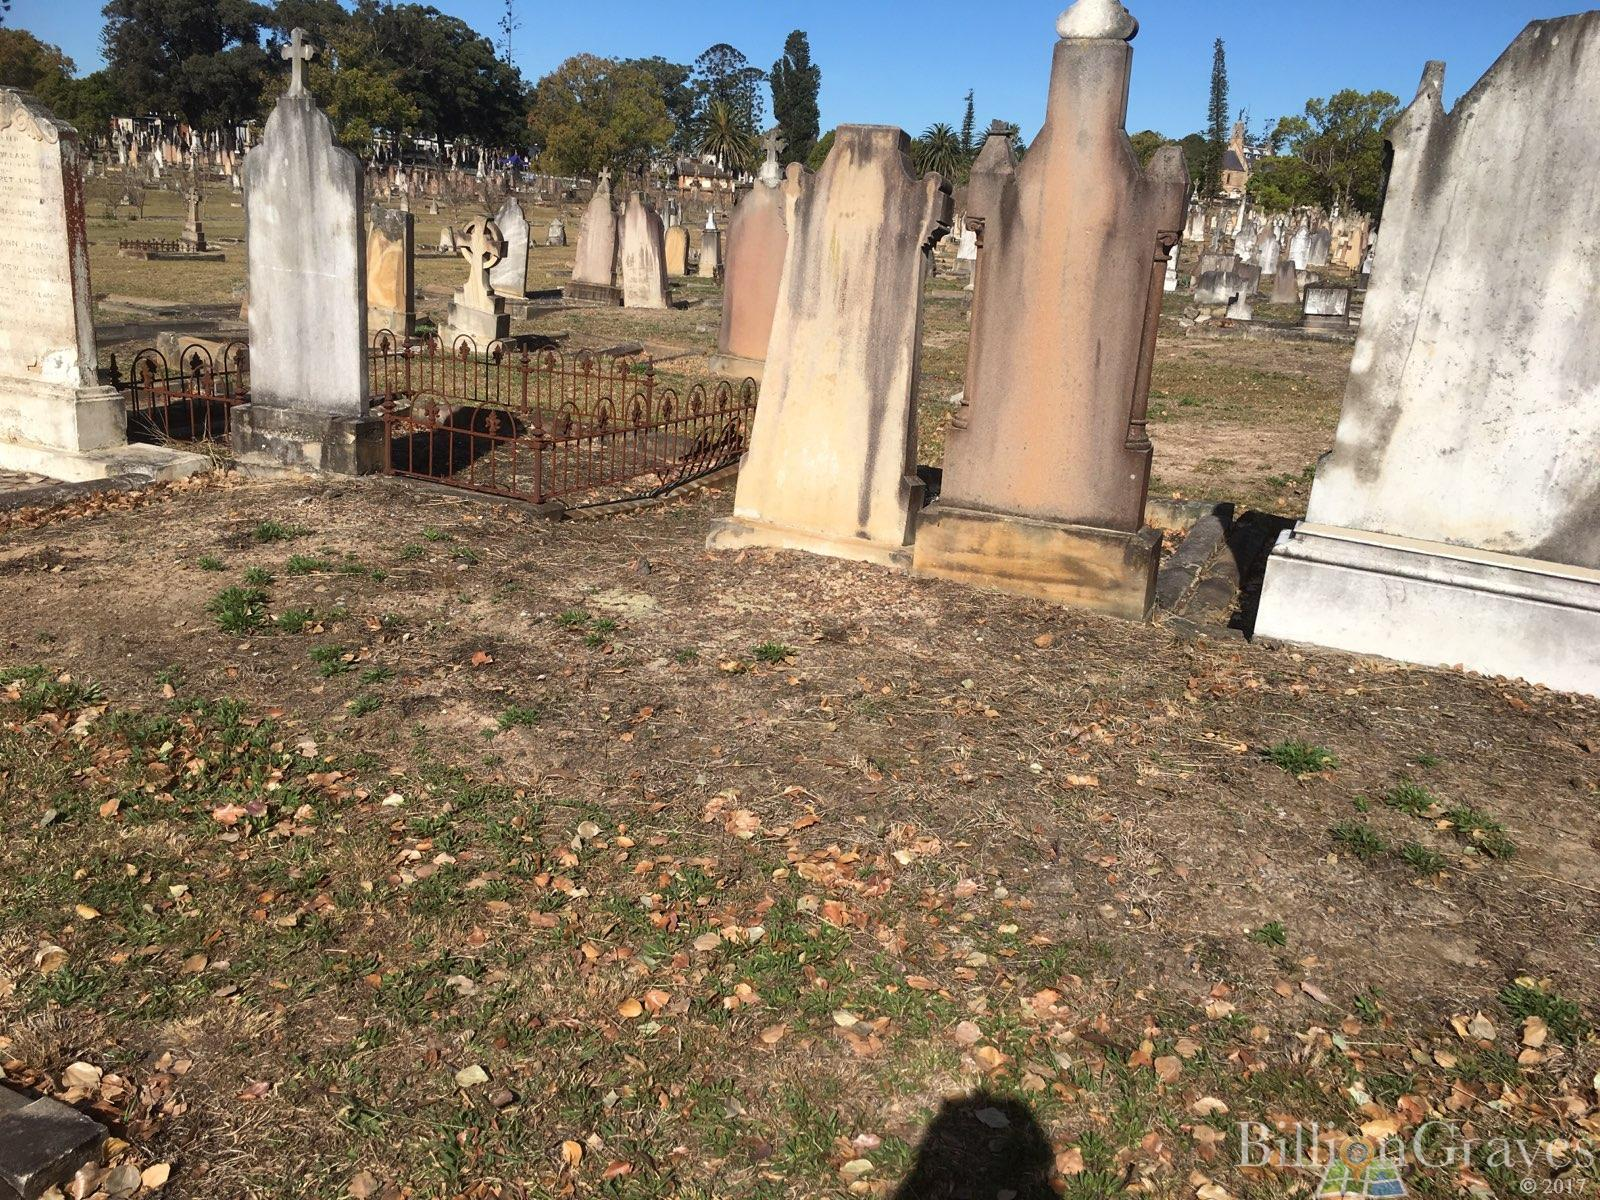upright: (718, 72, 957, 585)
